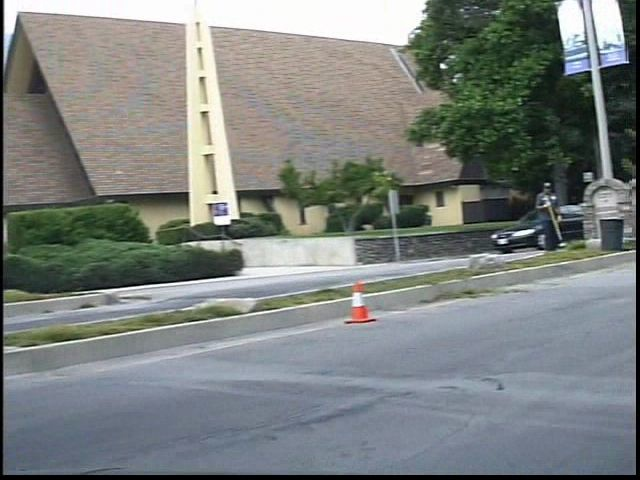person: (544, 175, 578, 256)
